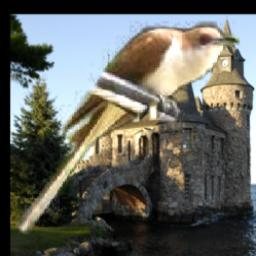Cuckoo: (15, 21, 240, 235)
